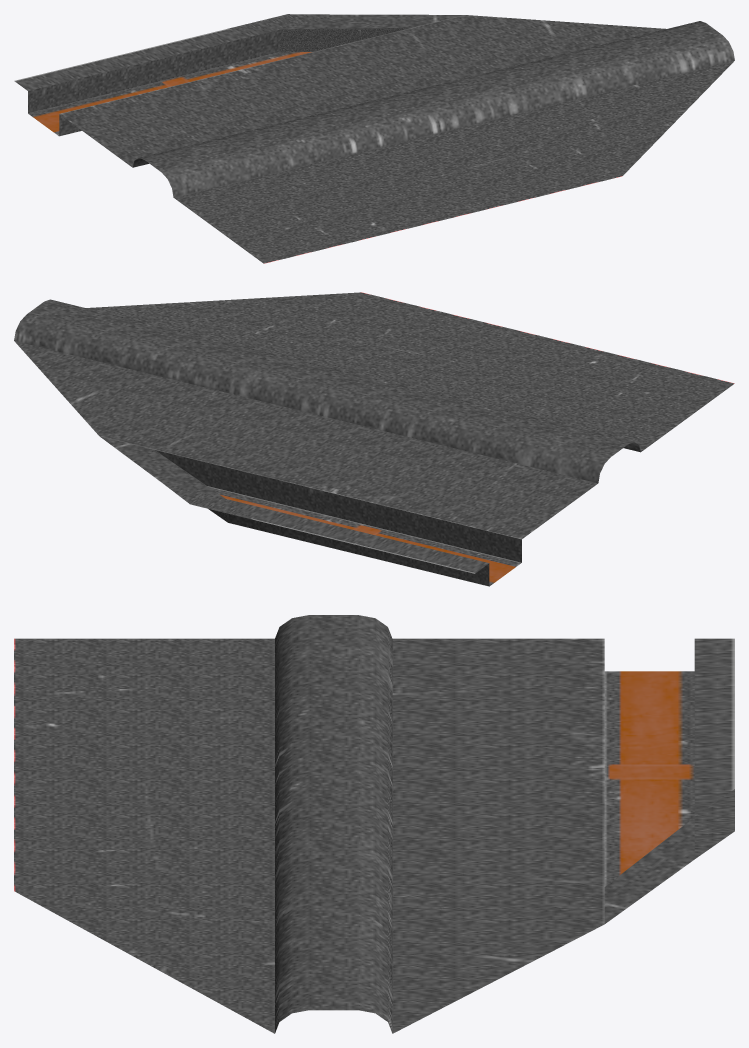
Rendered from FloorPanelEnd.fbx.
3 views of the same model, one above another, from view 1: azimuth 30°, elevation 25°; view 2: azimuth 150°, elevation 25°; view 3: azimuth 270°, elevation 25° (orthographic). The views are drawn at different scales.
Parts seen in each view (by area): view 1: FloorPanelEnd; view 2: FloorPanelEnd; view 3: FloorPanelEnd.
Boxes of the visible parts, bbox=[...] form: FloorPanelEnd: bbox=[14, 14, 734, 263]; FloorPanelEnd: bbox=[14, 292, 734, 586]; FloorPanelEnd: bbox=[14, 615, 734, 1033].
Size of the model in its own units: 176 by 11.69 by 136.
